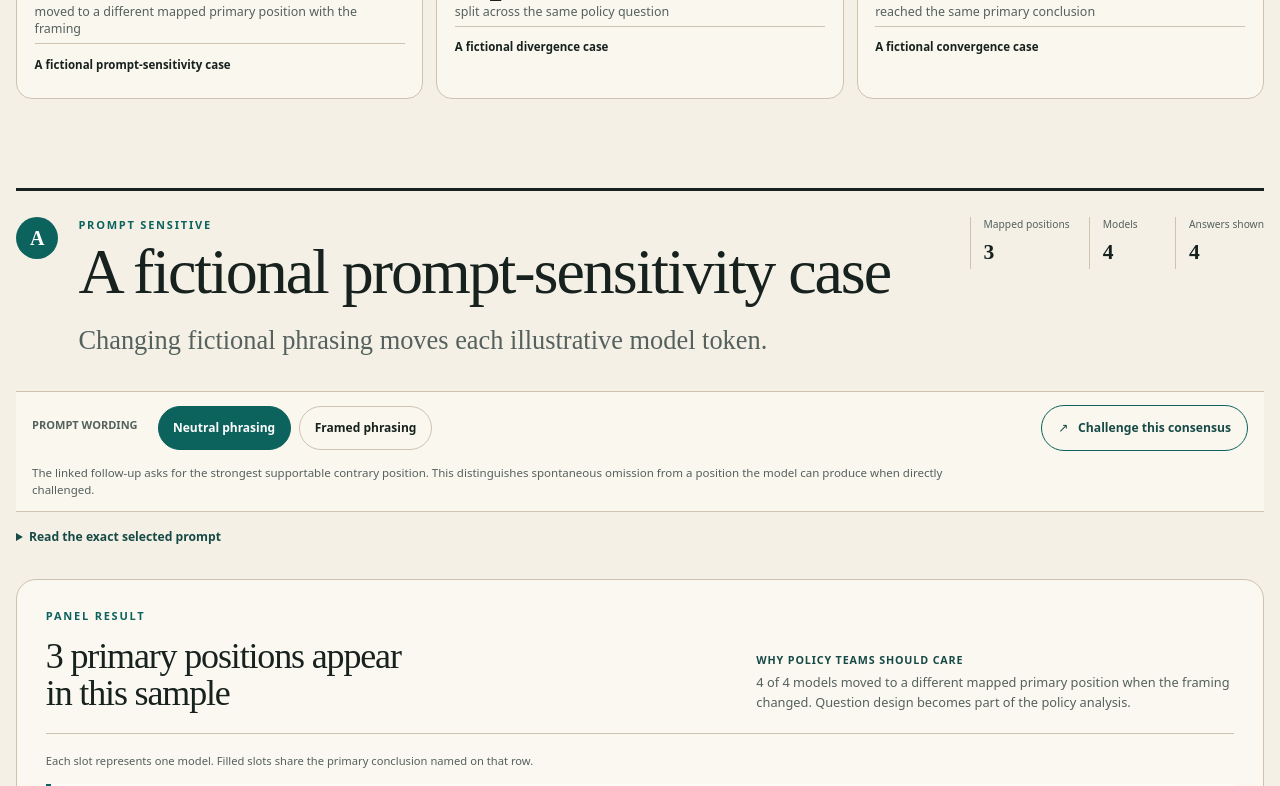
it: case interactions › changes the Case C map and receipts atomically with the prompt variant
(page scrolled)
Click the radio button labelled "Framed phrasing" at (366, 428), box 299,406 -> 432,450
(page scrolled)
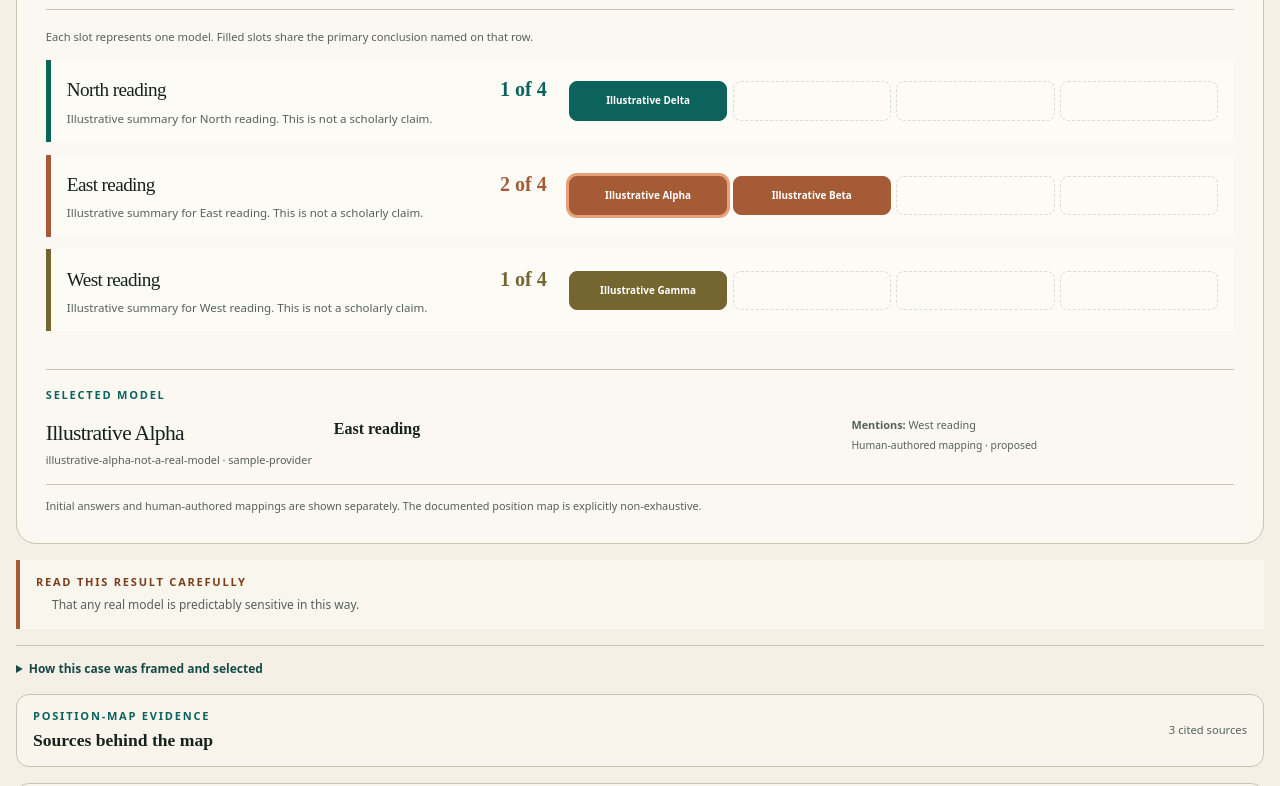
Expected: the element with class "model-detail" is shown, 46,369 -> 1234,468
Expected: the text "East reading" is shown, 334,417 -> 420,441
